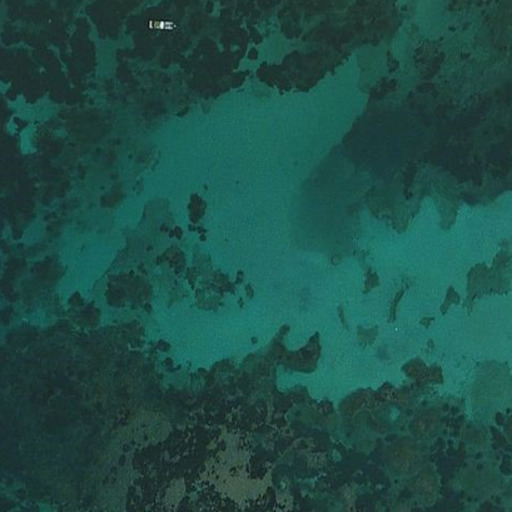ship: (146, 18, 177, 33)
